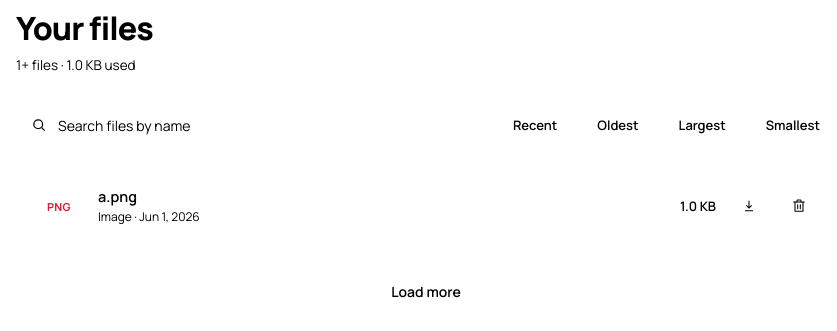
it: FileBrowser › loads the next page when 'Load more' is clicked
Expected: the text "a.png" is shown, [98, 187, 137, 206]
Click the button "Load more".
click(426, 291)  # box [351, 268, 501, 314]
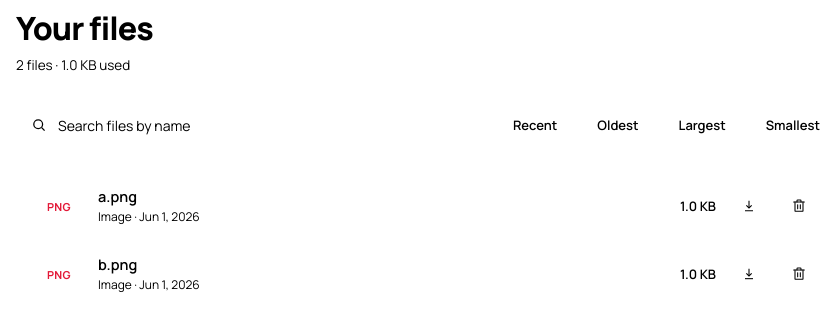
Result: the text "b.png" is shown at [98, 255, 137, 274]
